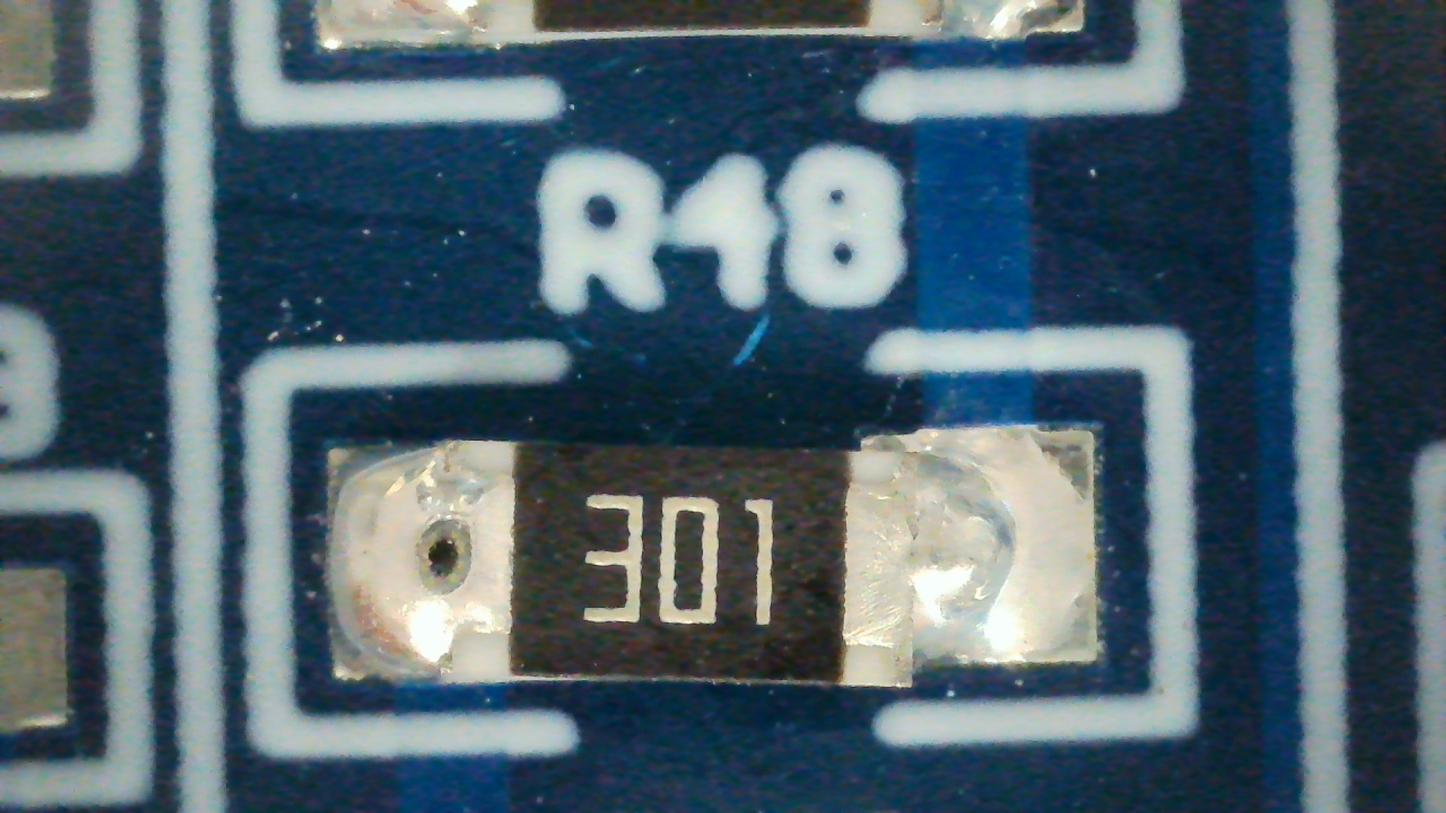NG: (327, 426, 1097, 686)
